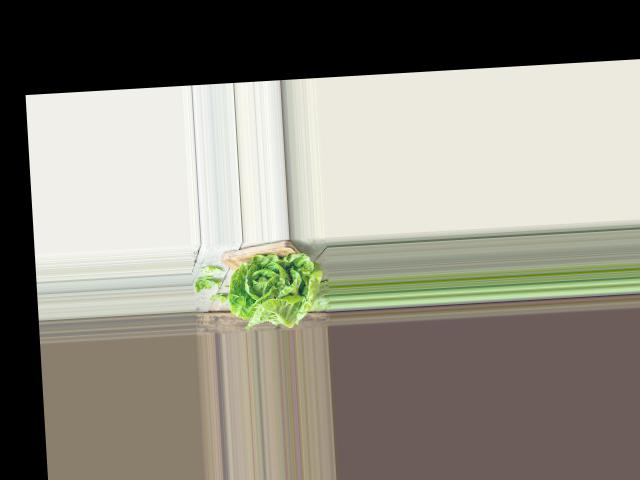lettuce: (229, 246, 327, 328)
